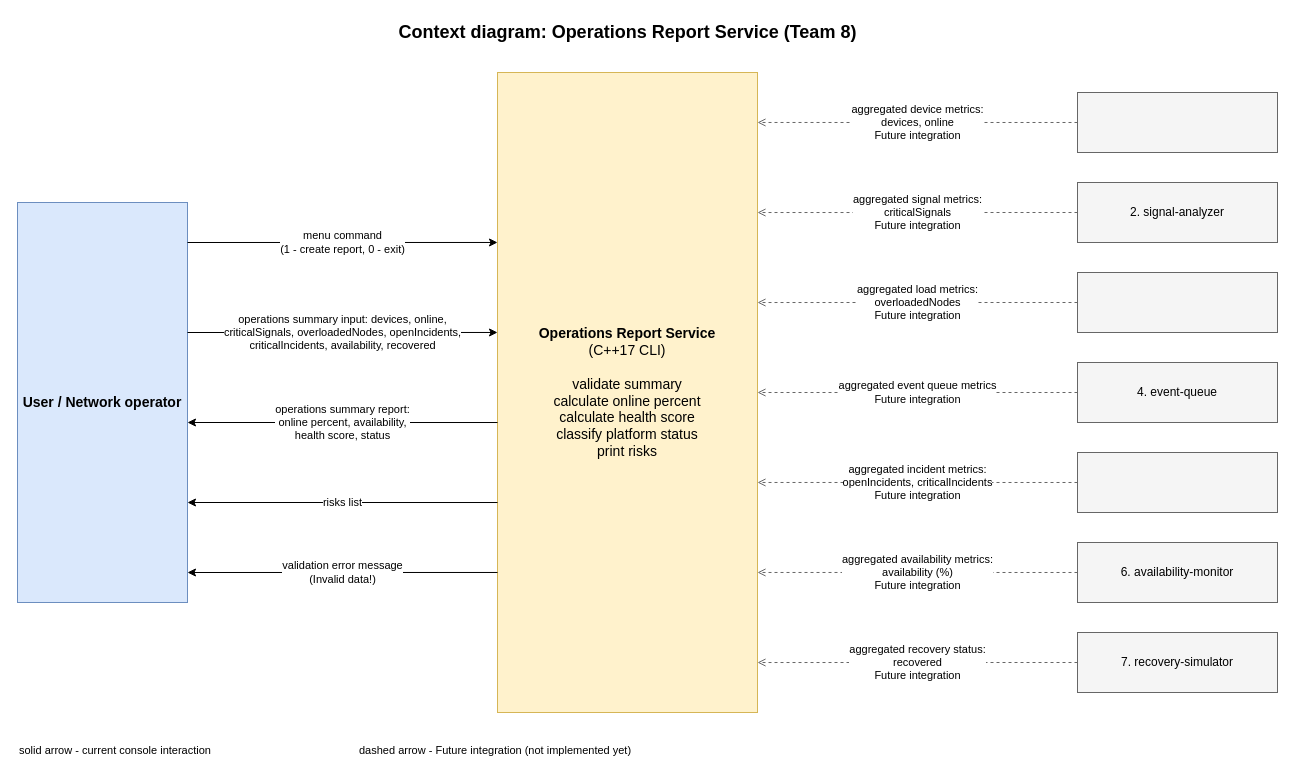
The diagram is 1295 pixels wide and 778 high, and some of its shapes have lost their labels. Here are the shapes that lost their labels. From the top down, the box of each, then its label:
(1076, 92, 1278, 152): 1. device-registry
(1076, 272, 1278, 332): 3. traffic-monitor
(1076, 452, 1278, 512): 5. incident-manager
